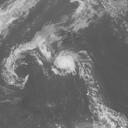cyclone: (53, 48, 78, 75)
